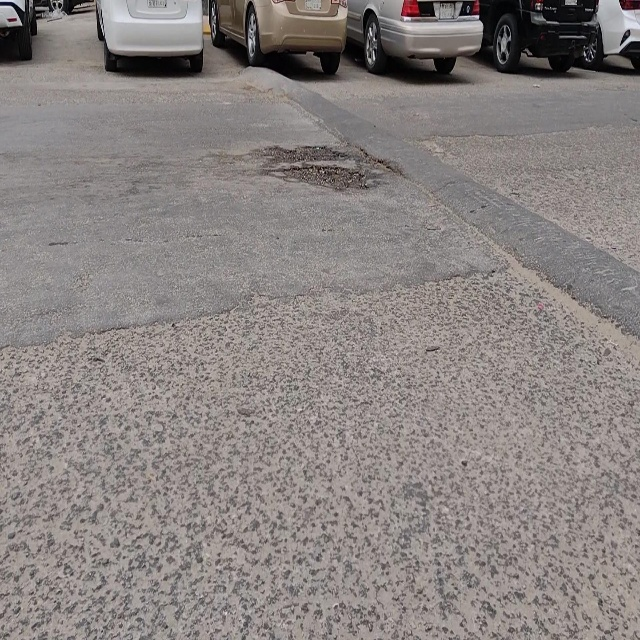pothole: (259, 145, 368, 192)
